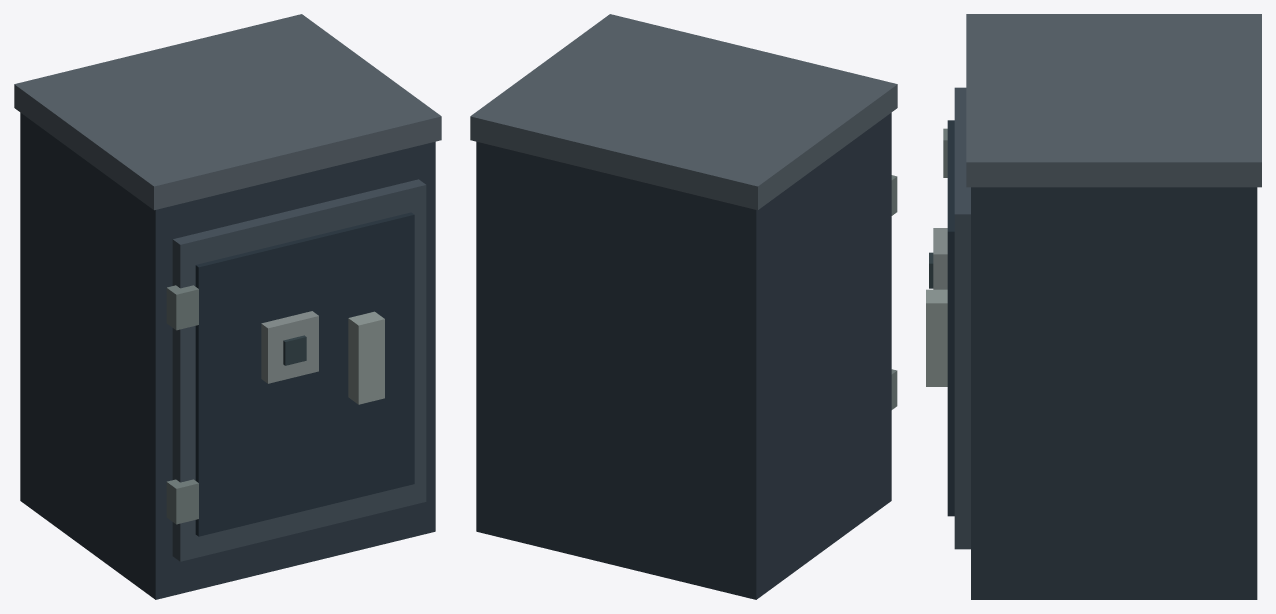
Rendered from CMU3DSecureSafe.glb.
3 views of the same model, side by side, from view 1: azimuth 30°, elevation 25°; view 2: azimuth 150°, elevation 25°; view 3: azimuth 270°, elevation 25° (orthographic). The views are drawn at different scales.
Visible parts, largest first — view 1: safe body, door inset, safe top, heavy door, lock handle, dial face, upper hinge, lower hinge, dial center; view 2: safe body, safe top; view 3: safe body, safe top, heavy door, door inset, lock handle, dial face.
Boxes of the visible parts, left/top/right/bottom form: safe body: left=20, top=112, right=435, bottom=599; door inset: left=195, top=212, right=414, bottom=536; safe top: left=14, top=14, right=441, bottom=210; heavy door: left=172, top=179, right=426, bottom=561; lock handle: left=348, top=311, right=384, bottom=404; dial face: left=261, top=311, right=318, bottom=383; upper hinge: left=166, top=285, right=198, bottom=330; lower hinge: left=166, top=479, right=198, bottom=524; dial center: left=283, top=335, right=306, bottom=365; safe body: left=476, top=112, right=891, bottom=599; safe top: left=470, top=14, right=897, bottom=210; safe body: left=971, top=187, right=1257, bottom=599; safe top: left=966, top=14, right=1261, bottom=187; heavy door: left=954, top=87, right=970, bottom=549; door inset: left=947, top=120, right=954, bottom=516; lock handle: left=926, top=289, right=947, bottom=386; dial face: left=933, top=228, right=947, bottom=289.
Bounding box in the file's own units: 0.76 × 1.05 × 0.727.
